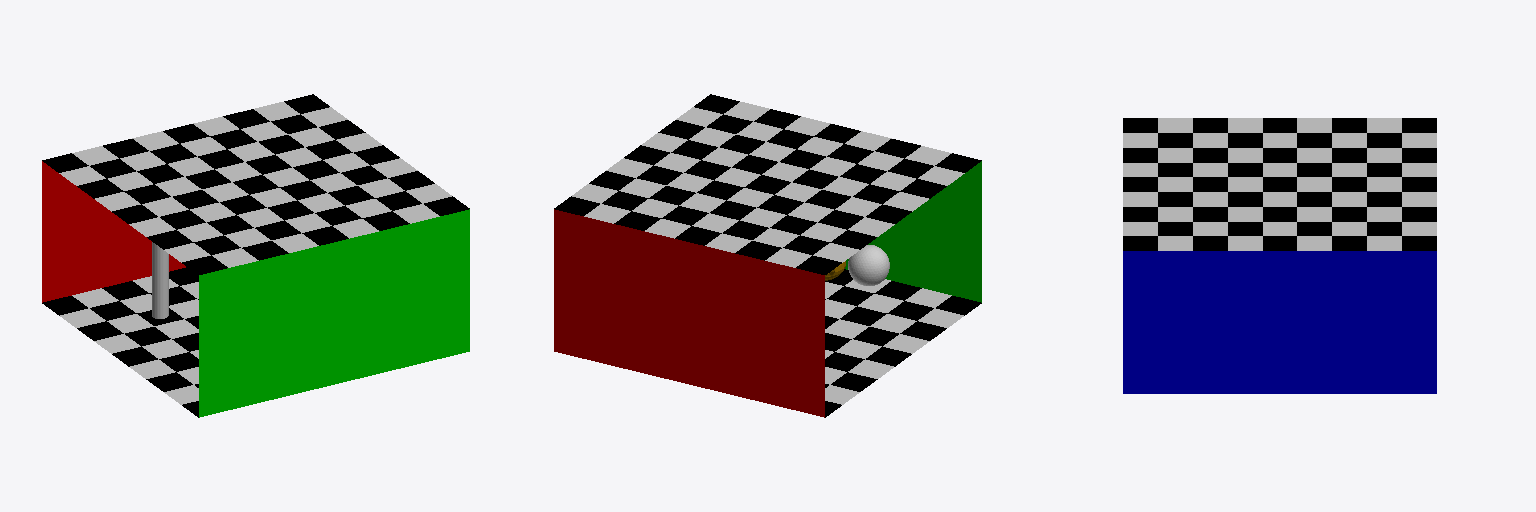
Rendered from sampleroom.obj.
The picture shows the model from 3 angles: view 1: azimuth 30°, elevation 25°; view 2: azimuth 150°, elevation 25°; view 3: azimuth 270°, elevation 25°; orthographic projection.
Parts seen in each view (by area): view 1: Plane_001_Plane.001, Plane02_Plane02_001_Plane02_Plane02.001, Plane, Plane02_Plane02, Cylinder.001; view 2: Plane_001_Plane.001, Plane02_Plane02, Plane, Plane02_Plane02_001_Plane02_Plane02.001, Icosphere; view 3: Plane03_Plane03, Plane_001_Plane.001.
Part boxes in pixels (x1,y1,x2,y2): Plane_001_Plane.001: (42,94,469,274); Plane02_Plane02_001_Plane02_Plane02.001: (199,209,469,417); Plane: (42,267,198,417); Plane02_Plane02: (42,161,185,302); Cylinder.001: (152,242,168,318); Plane_001_Plane.001: (554,94,981,274); Plane02_Plane02: (554,209,824,417); Plane: (825,269,981,417); Plane02_Plane02_001_Plane02_Plane02.001: (845,161,981,302); Icosphere: (848,245,889,285); Plane03_Plane03: (1123,251,1436,393); Plane_001_Plane.001: (1123,118,1436,250).
Bounding box in the file's own units: 15 × 7.5 × 15.